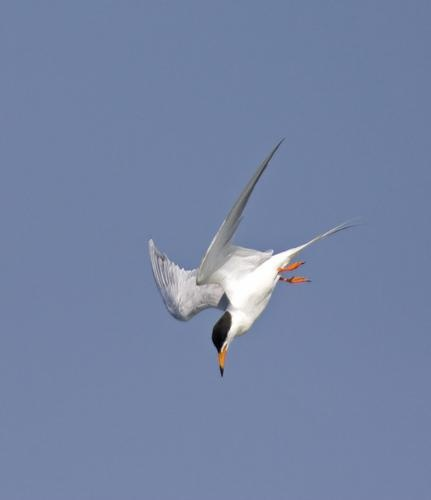bird: (148, 141, 371, 377)
